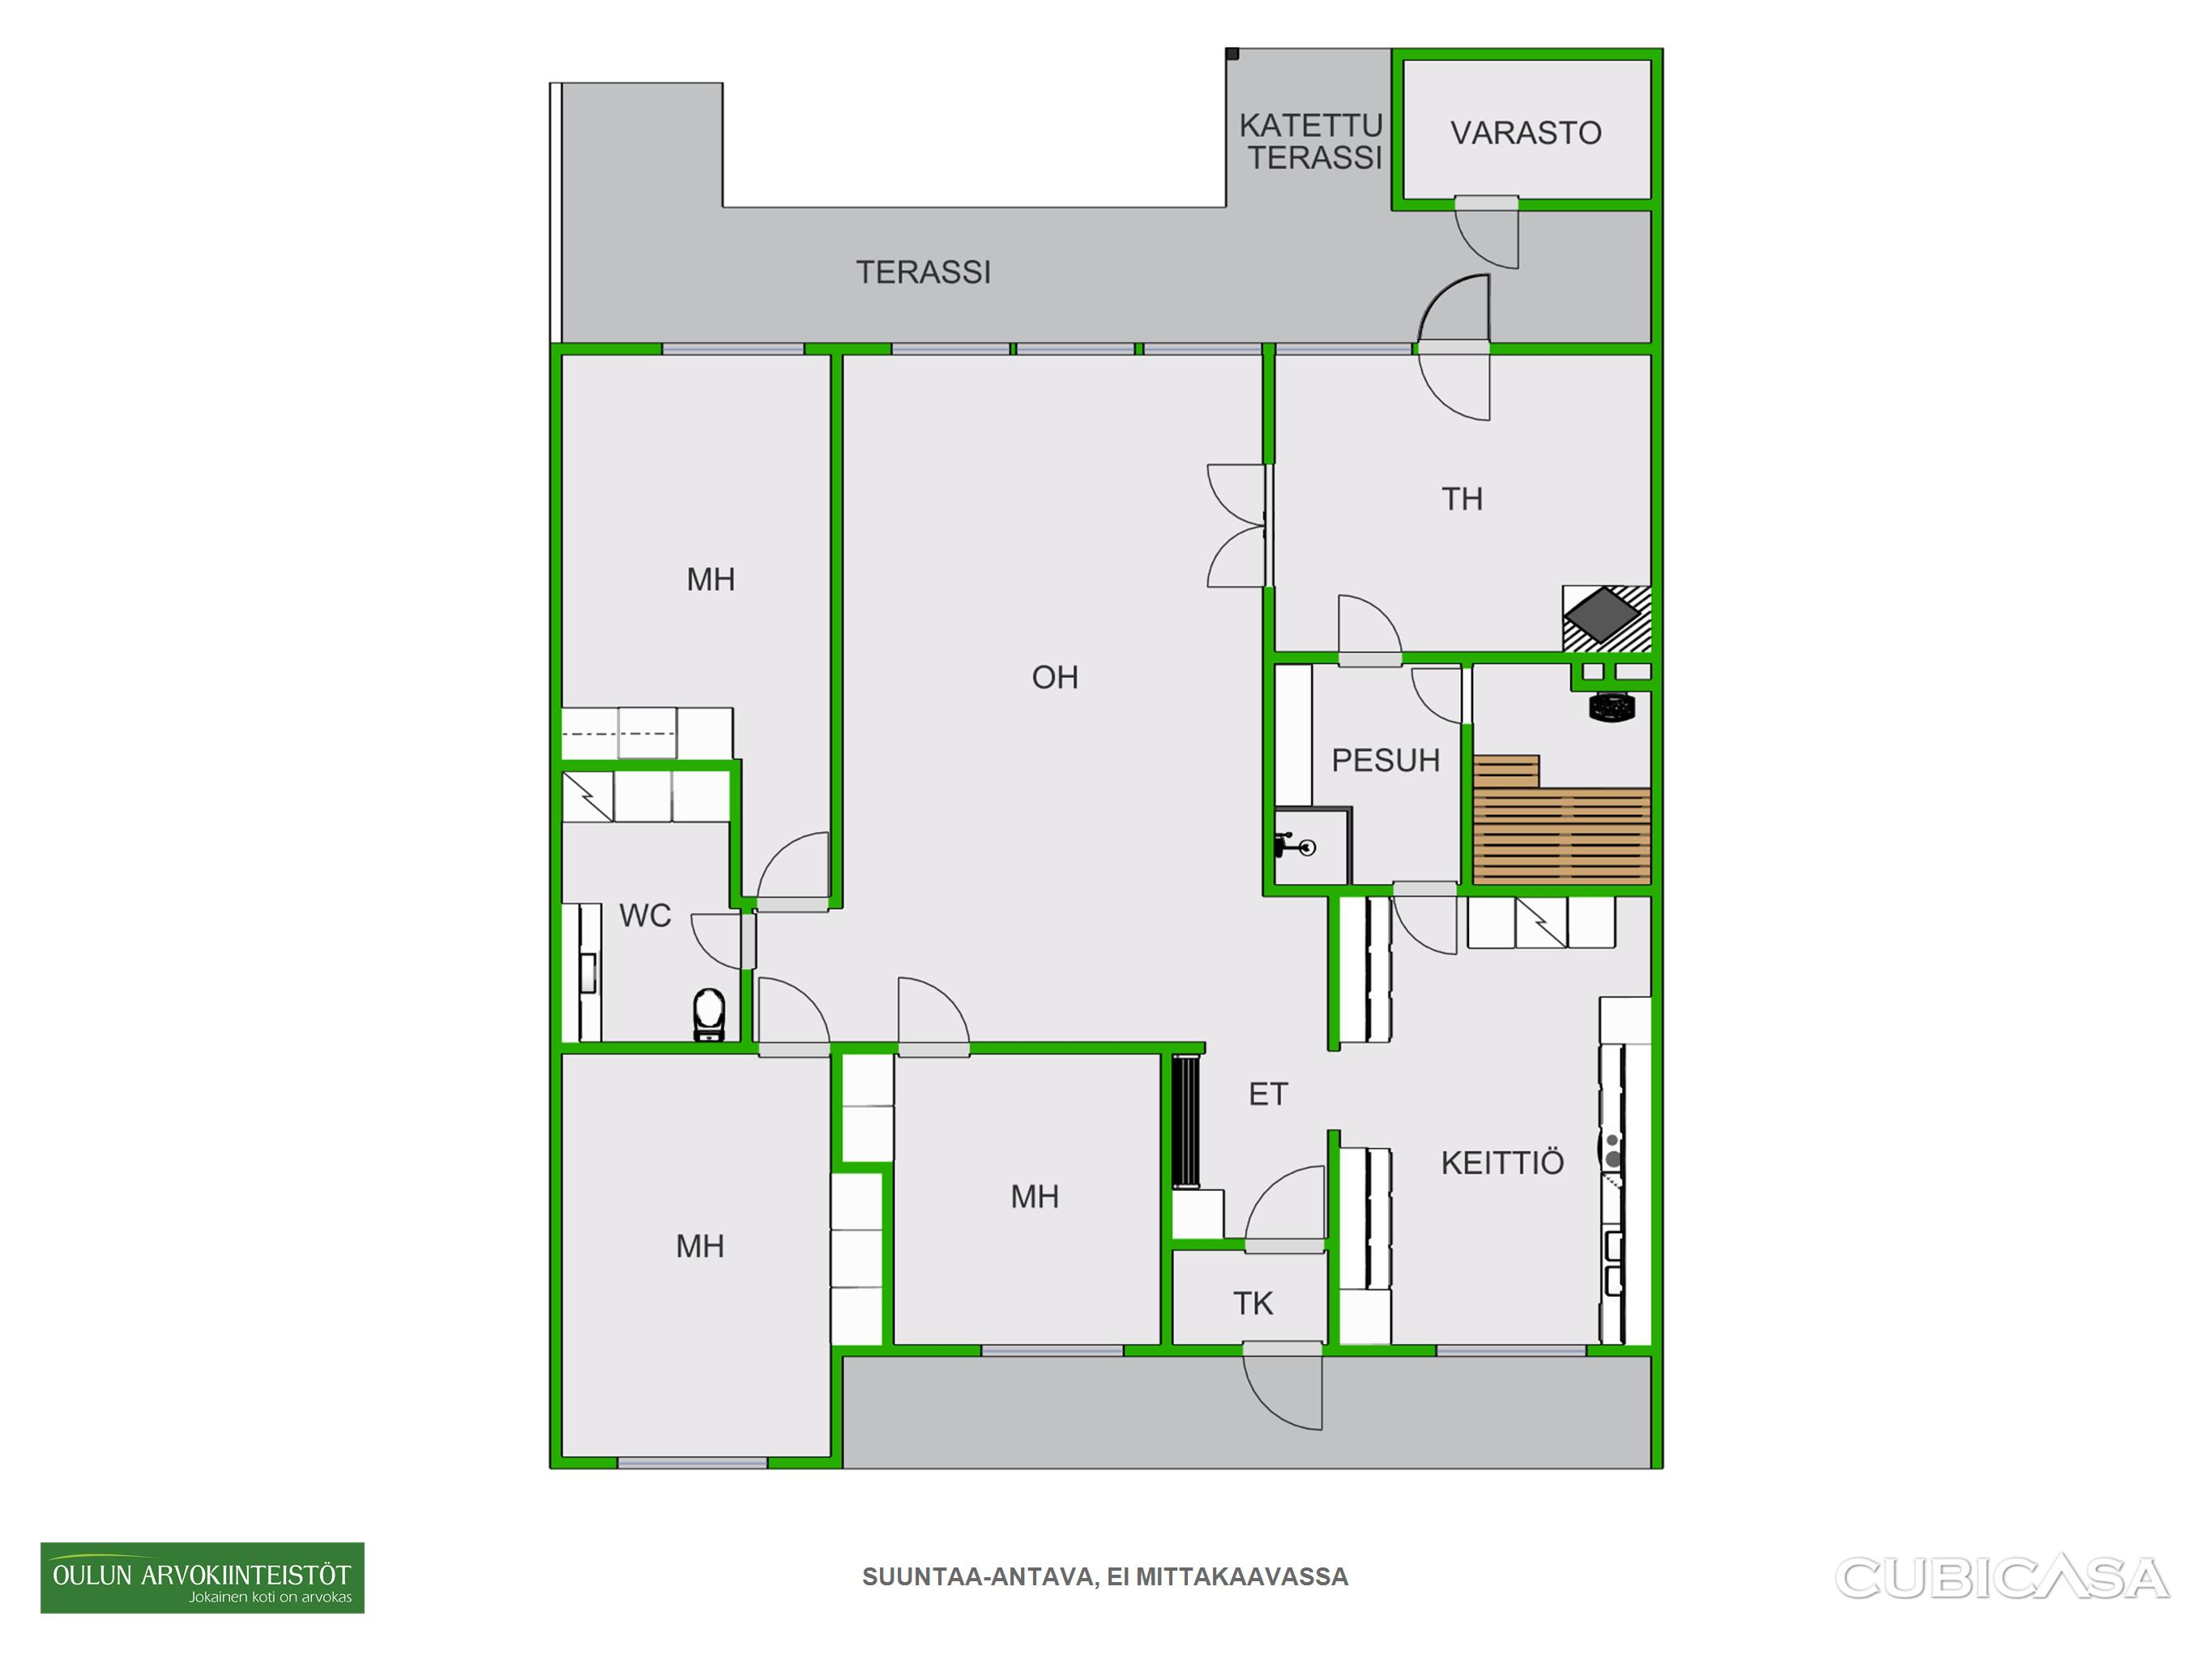bathroom: (561, 819, 750, 1044)
door: (1236, 1331, 1335, 1438), (1231, 1154, 1332, 1251), (1414, 336, 1506, 432), (1410, 268, 1499, 362), (753, 821, 837, 911), (887, 974, 973, 1060), (748, 971, 830, 1056), (1389, 878, 1471, 960), (1201, 521, 1281, 599), (683, 904, 762, 985), (1450, 192, 1529, 268), (1332, 591, 1407, 671), (1199, 458, 1286, 526), (1410, 662, 1487, 725)
perimeter: (544, 340, 1665, 1467), (1382, 47, 1658, 214)
window: (605, 1446, 779, 1488), (1415, 1338, 1607, 1370), (962, 1337, 1138, 1368), (640, 335, 818, 364), (866, 336, 1018, 369), (1131, 335, 1272, 366), (1264, 336, 1421, 362), (1011, 340, 1143, 366)
